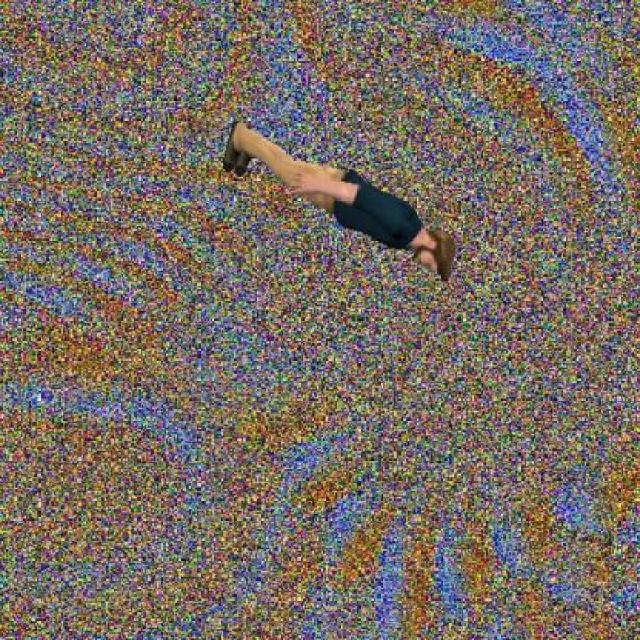Person: (219, 112, 459, 288)
